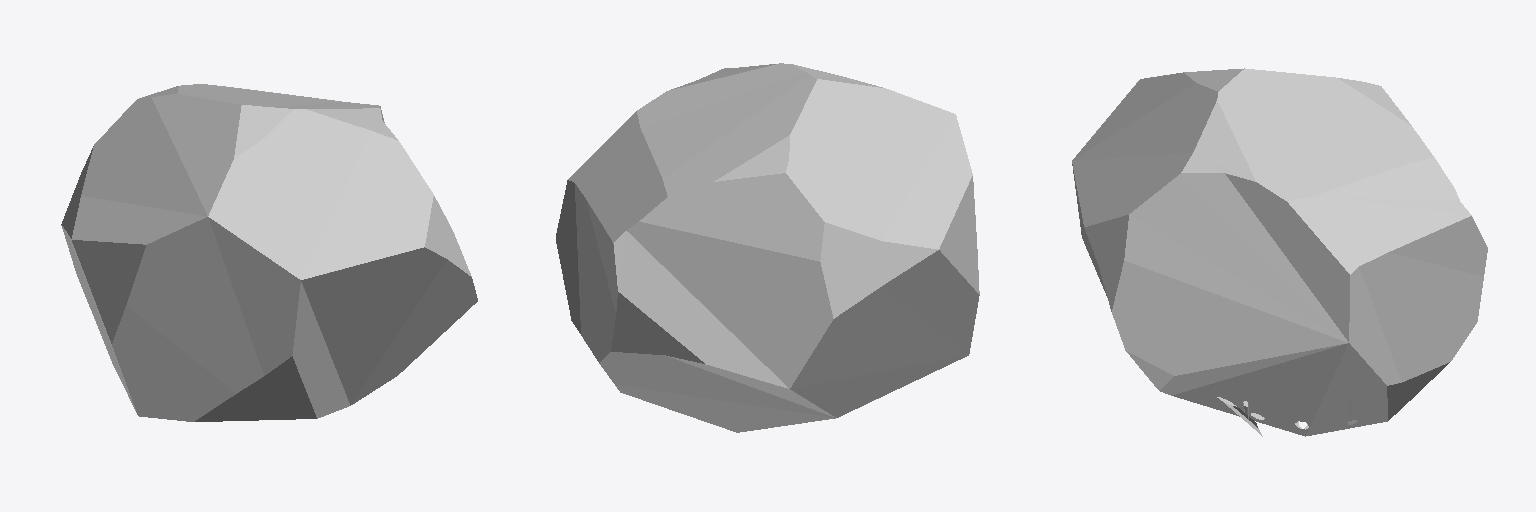
The model's file is Pinetree_leaves(R0G80B0).obj.
3 renders of one model, left to right at view 1: azimuth 30°, elevation 25°; view 2: azimuth 150°, elevation 25°; view 3: azimuth 270°, elevation 25°, orthographic.
Parts seen in each view (by area): view 1: Mesh1 Component_11_1 Model; view 2: Mesh1 Component_11_1 Model; view 3: Mesh1 Component_11_1 Model.
Boxes of the visible parts, box(x1,y1,x2,y2) form: Mesh1 Component_11_1 Model: box(61, 84, 477, 421); Mesh1 Component_11_1 Model: box(556, 63, 979, 432); Mesh1 Component_11_1 Model: box(1072, 68, 1487, 436).
Size of the model in its own units: 8684 by 8018 by 8797.